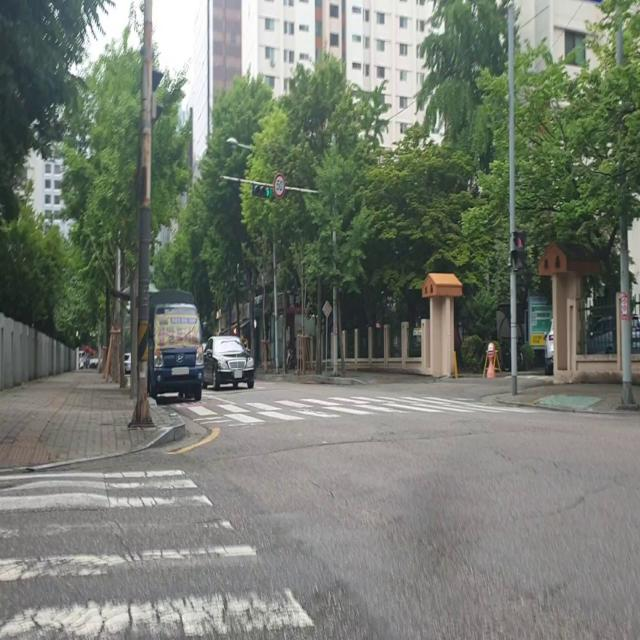빨간불: (513, 229, 525, 269)
횡단보도: (0, 468, 318, 638), (183, 395, 537, 421)
